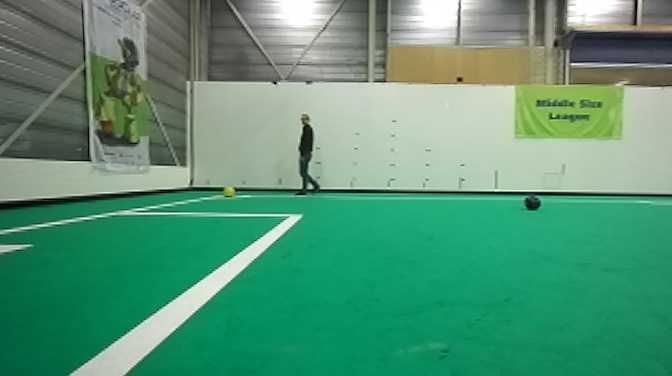ball: (522, 192, 546, 212), (220, 184, 239, 199)
human: (290, 112, 326, 197)
